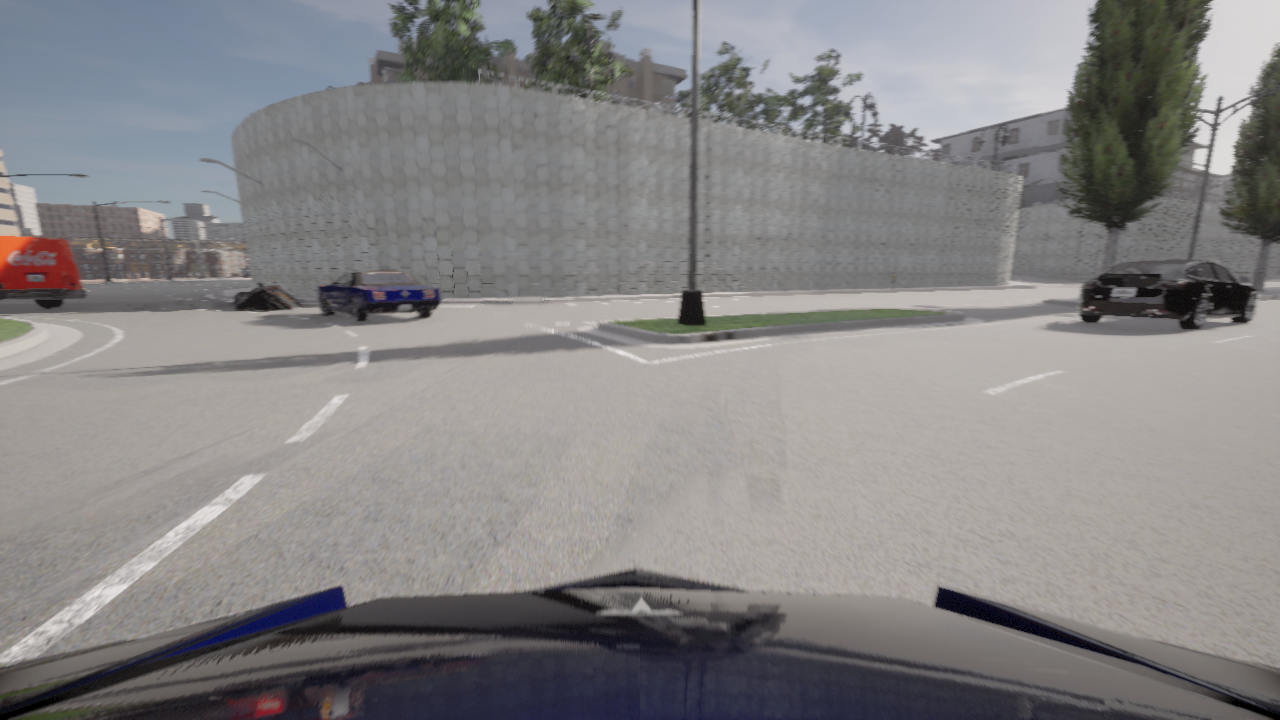cyclist: (0, 569, 1279, 719), (1078, 260, 1257, 329), (318, 270, 440, 321), (233, 282, 301, 310)
pedestrian: (890, 272, 895, 288)
